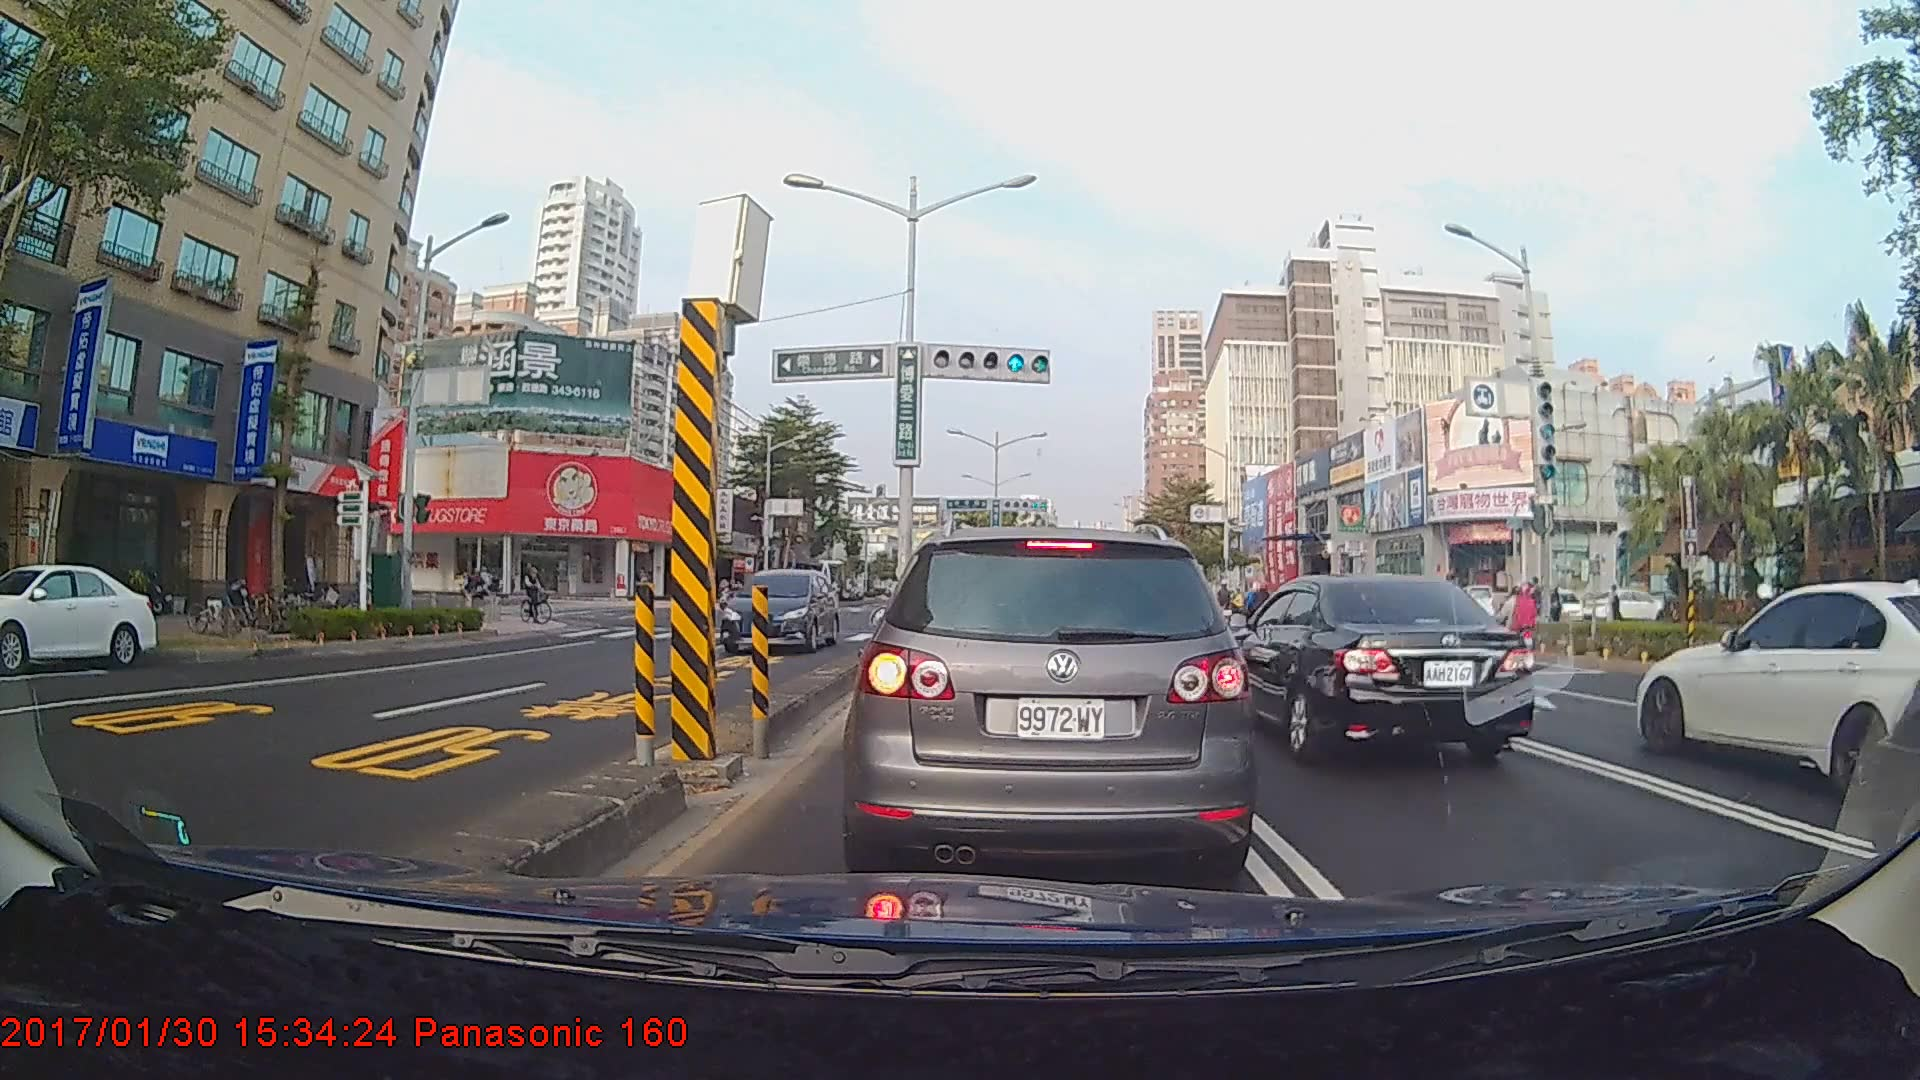pedestrian: (1603, 581, 1623, 640)
rider: (1735, 578, 1784, 654), (518, 559, 561, 629), (1245, 580, 1291, 643), (457, 563, 501, 603)
vehicle: (851, 526, 1247, 883), (1201, 571, 1535, 770), (1635, 581, 1920, 795), (0, 561, 158, 671), (717, 566, 841, 653)
